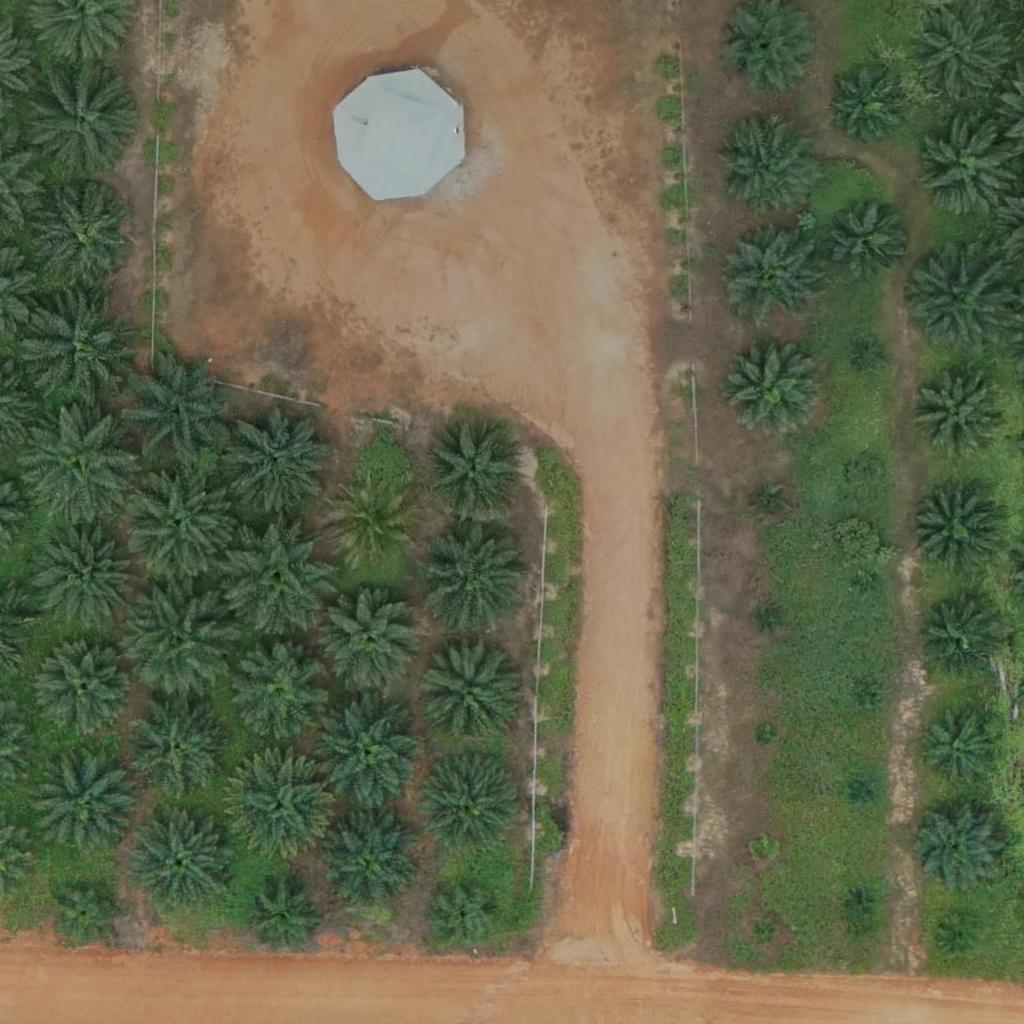Kelapa_Sawit: (901, 242, 1014, 356), (225, 405, 338, 519), (223, 521, 336, 635), (123, 356, 236, 470), (24, 68, 137, 181), (312, 694, 425, 807), (123, 462, 235, 576), (26, 295, 138, 409), (225, 755, 337, 868), (901, 791, 1013, 904), (420, 520, 532, 633), (120, 587, 232, 700), (23, 409, 135, 522), (714, 114, 814, 215), (722, 225, 822, 326), (720, 333, 820, 434), (422, 420, 522, 521), (319, 812, 419, 913), (128, 703, 228, 804), (132, 810, 232, 911), (34, 526, 134, 627), (35, 639, 135, 740), (35, 748, 135, 849), (34, 187, 134, 287), (917, 7, 1017, 107), (919, 120, 1019, 220), (417, 640, 517, 740), (422, 754, 522, 854), (323, 593, 423, 693), (229, 643, 329, 743), (919, 702, 1007, 791), (916, 594, 1004, 682), (328, 483, 416, 571), (917, 366, 1004, 454), (910, 488, 997, 576), (823, 195, 910, 283), (428, 876, 503, 952), (830, 67, 905, 143), (246, 882, 321, 957), (50, 876, 125, 951), (848, 458, 886, 496), (941, 913, 979, 951), (861, 343, 886, 368), (857, 573, 882, 598), (851, 689, 876, 714), (757, 493, 782, 518), (757, 606, 782, 631), (753, 724, 778, 749), (749, 836, 774, 861), (752, 920, 777, 945), (852, 778, 877, 803), (845, 888, 870, 913)
